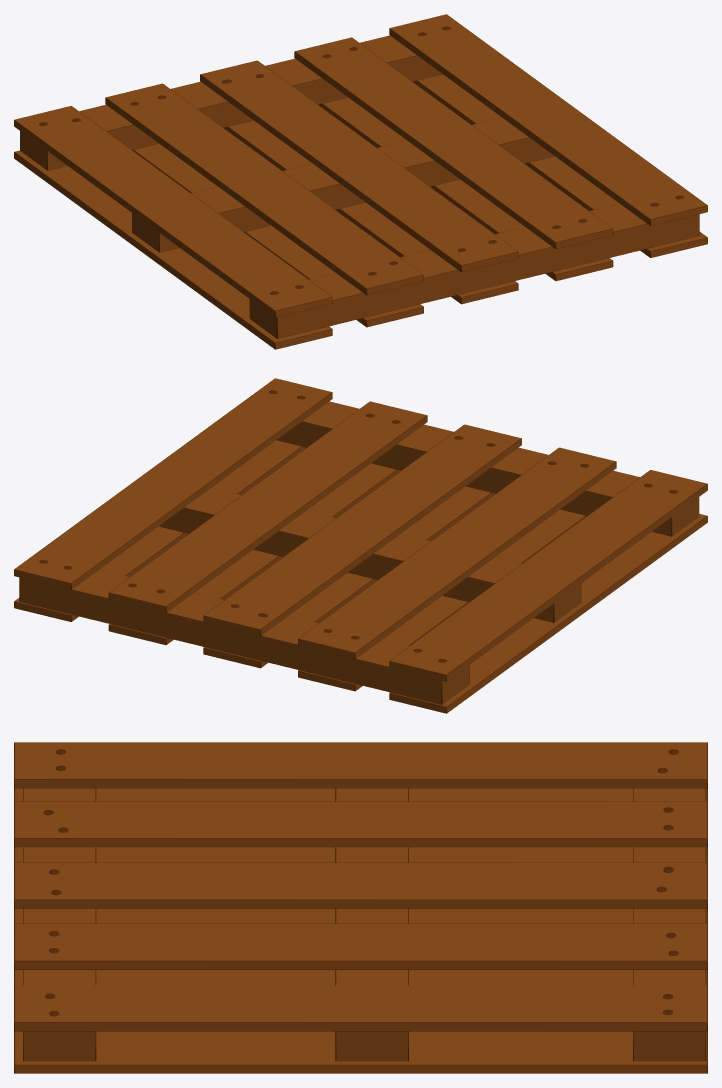
Rendered from Palet.fbx.
The picture shows the model from 3 angles, top to bottom: view 1: azimuth 30°, elevation 25°; view 2: azimuth 150°, elevation 25°; view 3: azimuth 270°, elevation 25°; orthographic projection. The views are drawn at different scales.
Parts seen in each view (by area): view 1: Palet.003; view 2: Palet.003; view 3: Palet.003.
Part boxes in pixels (left/top/right/bottom): Palet.003: left=14, top=14, right=707, bottom=349; Palet.003: left=14, top=378, right=707, bottom=713; Palet.003: left=14, top=742, right=707, bottom=1073.
Bounding box in the file's own units: 117 × 10.56 × 123.
